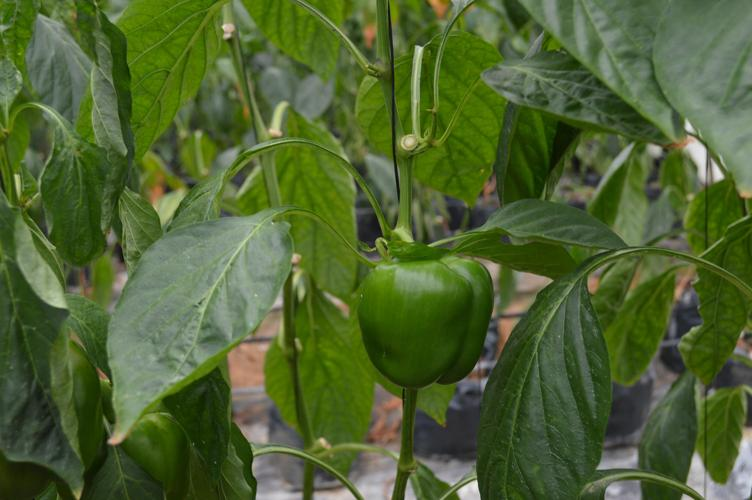BellPepper: (357, 259, 495, 386)
